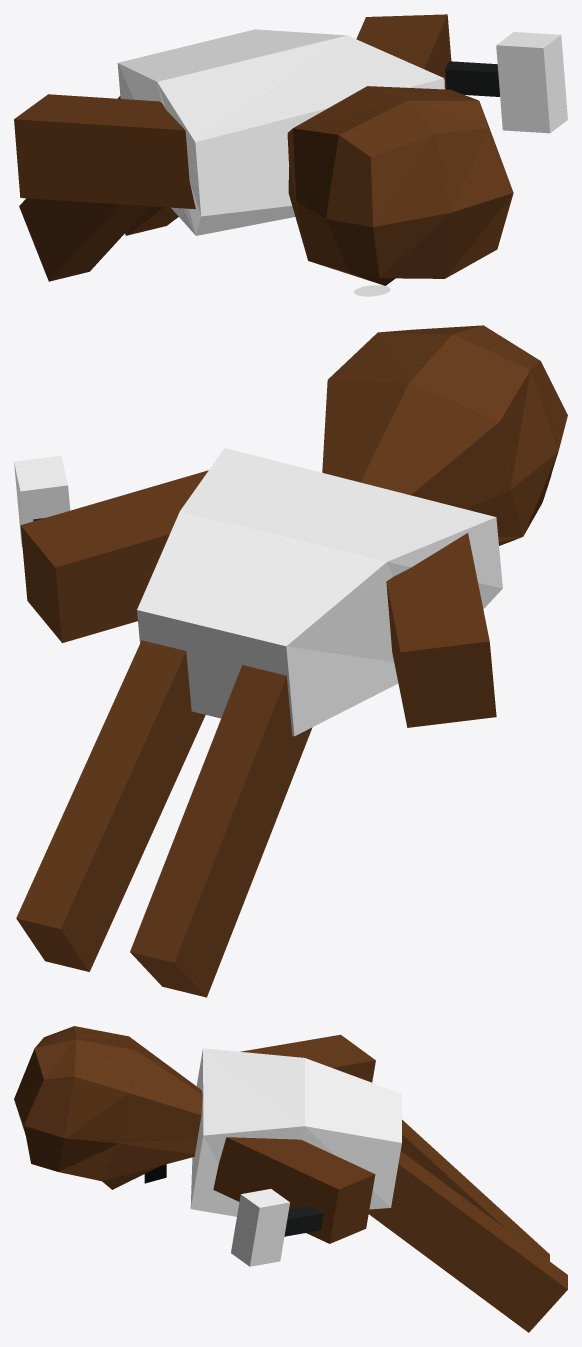
The model's file is slave2d.obj.
The picture shows the model from 3 angles, top to bottom: view 1: azimuth 30°, elevation 25°; view 2: azimuth 150°, elevation 25°; view 3: azimuth 270°, elevation 25°; orthographic projection. The views are drawn at different scales.
Visible parts, largest first — view 1: Cube, Cube.001, Cube.003, Cube.004, Cube.008, Cube.002, Cube.007, Cube.005; view 2: Cube.001, Cube, Cube.005, Cube.004, Cube.002, Cube.003, Cube.008; view 3: Cube, Cube.001, Cube.005, Cube.002, Cube.008, Cube.004, Cube.003, Cube.007.
Boxes of the visible parts, x1,y1,x2,y2 form: Cube: (287,86,513,285); Cube.001: (117,29,444,235); Cube.003: (14,94,195,209); Cube.004: (19,96,149,281); Cube.008: (496,32,567,133); Cube.002: (356,14,451,89); Cube.007: (445,61,499,96); Cube.005: (125,206,178,235); Cube.001: (137,448,502,736); Cube: (322,325,567,545); Cube.005: (16,640,205,971); Cube.004: (130,665,312,997); Cube.002: (20,470,208,642); Cube.003: (386,533,496,727); Cube.008: (14,455,70,548); Cube: (14,1026,202,1189); Cube.001: (190,1048,401,1216); Cube.005: (368,1151,567,1332); Cube.002: (213,1137,375,1243); Cube.008: (231,1189,289,1266); Cube.004: (400,1120,549,1261); Cube.003: (240,1034,375,1082); Cube.007: (284,1206,323,1236).
Bounding box in the file's own units: 4.16 × 3.06 × 5.52.
